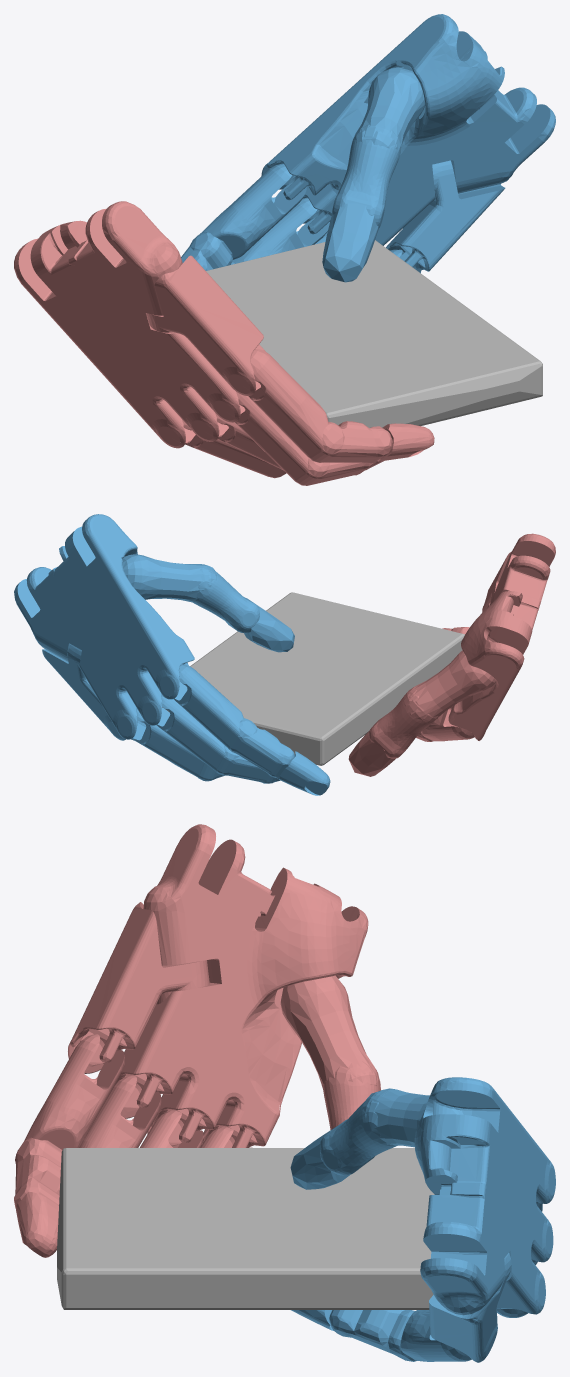
The model's file is Ipod_mesh.glb.
3 renders of one model, top to bottom at view 1: azimuth 30°, elevation 25°; view 2: azimuth 150°, elevation 25°; view 3: azimuth 270°, elevation 25°, orthographic. The views are drawn at different scales.
Parts seen in each view (by area): view 1: geom_1, geom_2, geom_0; view 2: geom_1, geom_0, geom_2; view 3: geom_2, geom_0, geom_1.
Part boxes in pixels (x1,y1,x2,y2): geom_1: [181, 14, 555, 282]; geom_2: [14, 201, 434, 485]; geom_0: [206, 240, 542, 428]; geom_1: [14, 514, 330, 795]; geom_0: [162, 592, 464, 765]; geom_2: [348, 533, 555, 776]; geom_2: [14, 824, 380, 1257]; geom_0: [57, 1148, 434, 1309]; geom_1: [290, 1077, 555, 1362].
Size of the model in its own units: 0.2972 by 0.1473 by 0.206.
